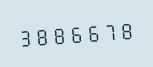eight: (34, 22, 50, 48), (51, 21, 67, 47), (119, 17, 135, 42)
seven: (102, 18, 118, 44)
six: (68, 20, 84, 46), (85, 19, 101, 45)
three: (17, 24, 33, 49)
